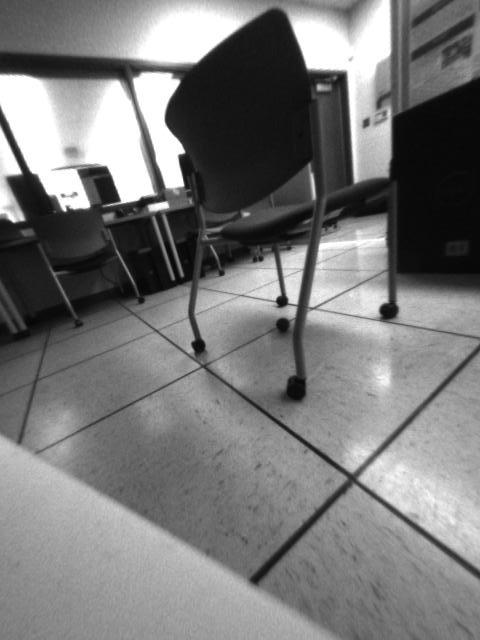dogtoy: (268, 309, 296, 337)
